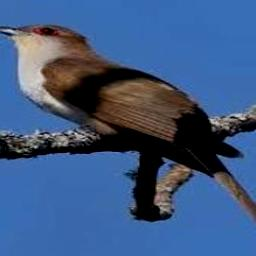Cuckoo: (0, 24, 256, 243)
